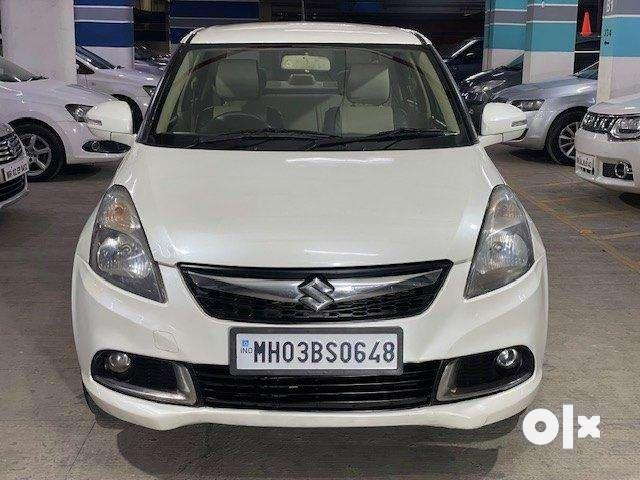Indian_Number_Plate: (230, 330, 402, 374)
